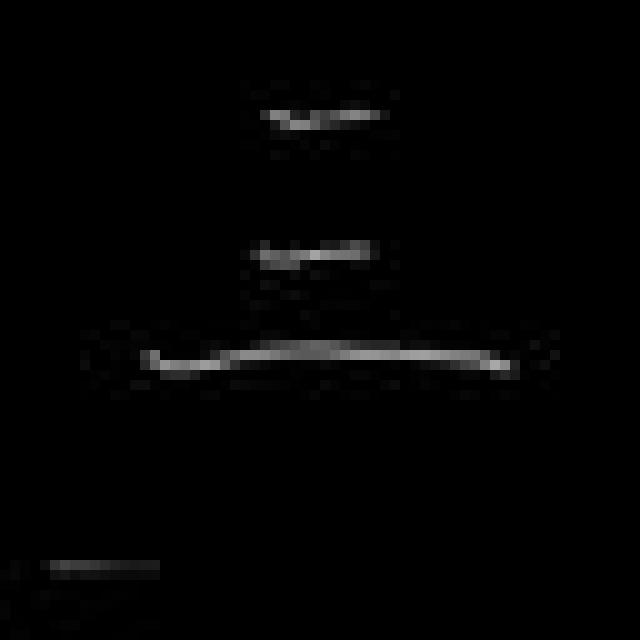3 -three-: (121, 96, 524, 400)
